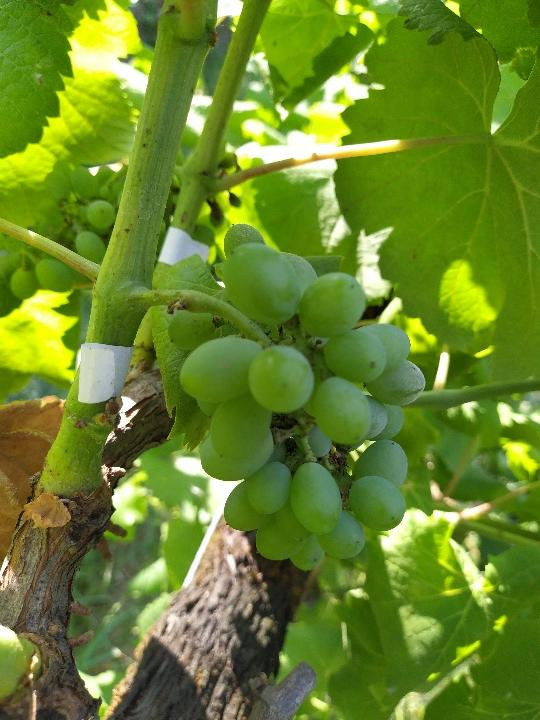grape: (166, 221, 429, 578)
